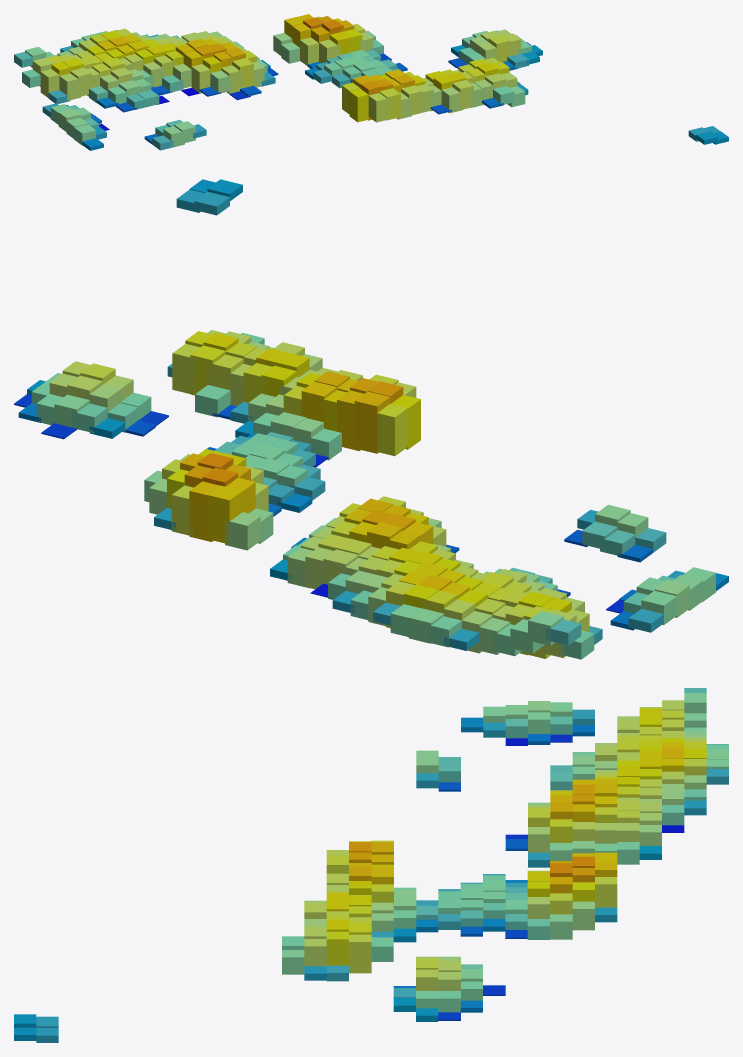
Rendered from population.glb.
3 views of the same model, one above another, from view 1: azimuth 30°, elevation 25°; view 2: azimuth 150°, elevation 25°; view 3: azimuth 270°, elevation 25° (orthographic). The views are drawn at different scales.
Visible parts, largest first — view 1: population; view 2: population; view 3: population.
Boxes of the visible parts, x1=… form: population: x1=14, y1=14, x2=728, y2=150; population: x1=14, y1=179, x2=728, y2=659; population: x1=14, y1=688, x2=728, y2=1042.
Size of the model in its own units: 3486 by 235 by 3191.
